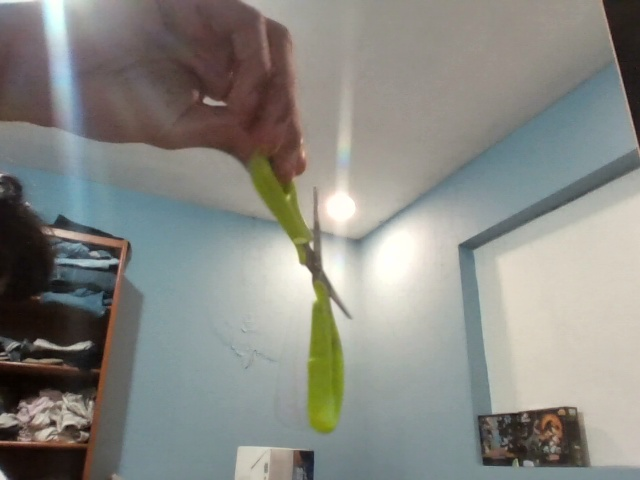tijeras: (248, 152, 354, 434)
